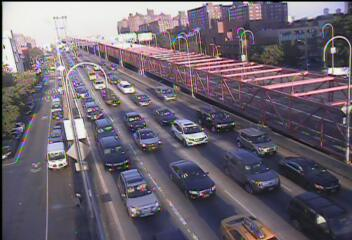neg: (295, 44, 327, 87), (31, 161, 60, 200), (119, 136, 146, 171), (215, 147, 241, 182), (181, 66, 207, 100), (57, 45, 83, 79), (260, 155, 286, 189), (251, 17, 276, 50), (81, 181, 106, 214), (83, 102, 107, 134), (247, 80, 269, 110), (173, 149, 195, 177), (120, 77, 140, 103), (148, 31, 167, 56), (24, 41, 42, 66), (27, 112, 45, 136), (222, 20, 238, 42)
